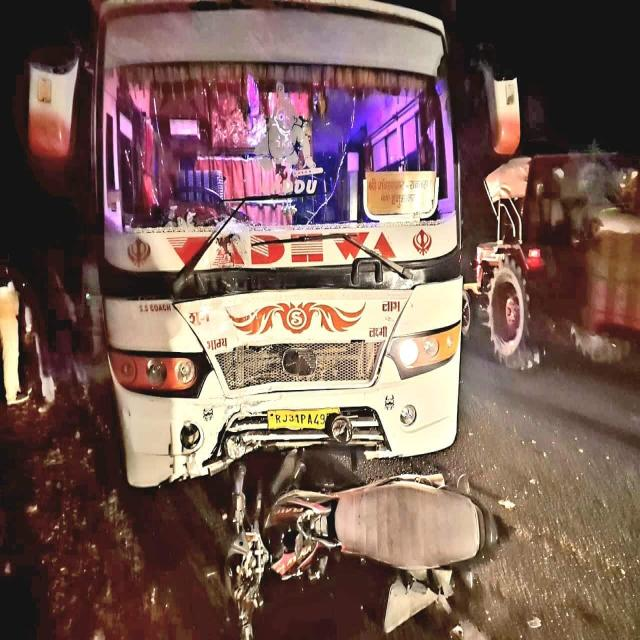accident: (226, 465, 496, 638)
bus: (95, 0, 461, 487)
truck: (462, 150, 640, 369)
